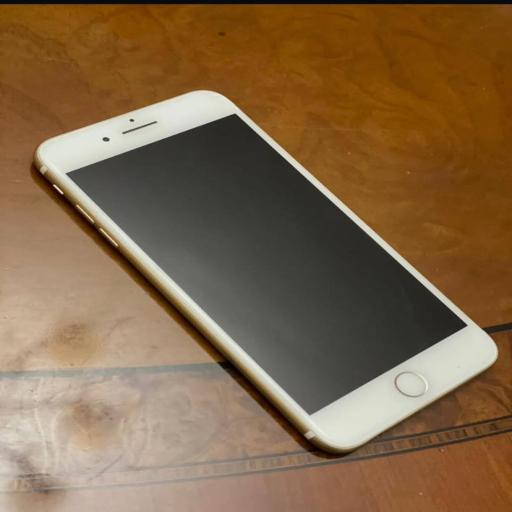curb: (35, 90, 497, 452)
